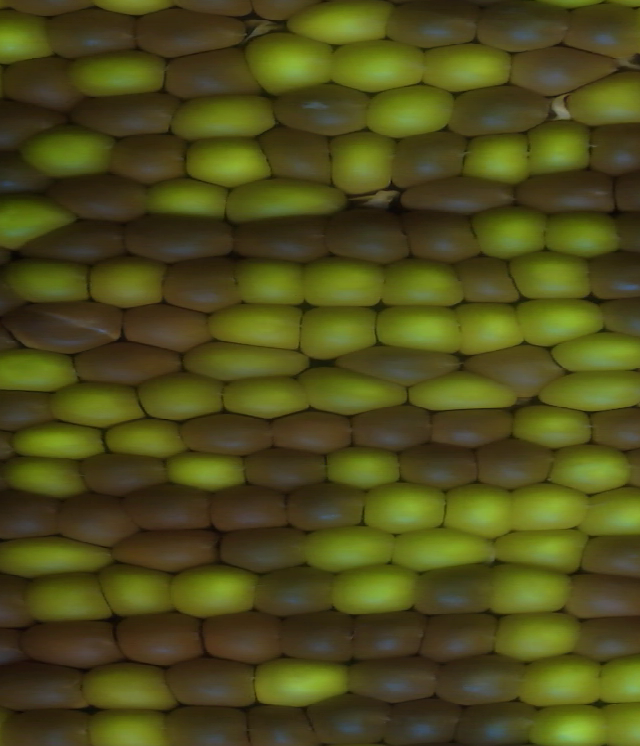fluorescent: (218, 175, 349, 224), (205, 298, 307, 354), (247, 30, 338, 92), (302, 362, 411, 413), (288, 1, 399, 50), (22, 122, 110, 183), (168, 559, 262, 616), (78, 659, 175, 714), (4, 249, 94, 308), (64, 49, 170, 99), (181, 339, 310, 380), (377, 298, 468, 356), (0, 534, 122, 577), (505, 477, 588, 540), (490, 608, 580, 666), (51, 374, 147, 428), (185, 133, 273, 191), (336, 34, 427, 90), (21, 571, 117, 624), (249, 654, 349, 704), (363, 81, 451, 137), (531, 369, 640, 414), (218, 372, 314, 423), (135, 370, 227, 423), (360, 481, 447, 537), (377, 254, 467, 308), (172, 95, 279, 140), (418, 45, 514, 95), (489, 557, 569, 617), (401, 370, 517, 411), (489, 523, 586, 572), (511, 293, 610, 341), (98, 557, 177, 617), (386, 529, 496, 572), (518, 653, 605, 707), (328, 564, 423, 613), (510, 398, 598, 450), (299, 301, 380, 357), (1, 451, 90, 501), (90, 255, 172, 309), (472, 201, 548, 259), (510, 246, 590, 301), (228, 251, 305, 308), (142, 171, 231, 220), (12, 417, 111, 461), (316, 443, 406, 491), (302, 256, 386, 307), (441, 481, 516, 538), (459, 132, 538, 186), (0, 191, 72, 250), (163, 446, 252, 493), (0, 346, 80, 398), (451, 299, 525, 355), (554, 444, 632, 497), (300, 523, 396, 566), (568, 66, 640, 123), (542, 208, 622, 259), (526, 699, 611, 746), (552, 330, 640, 375), (102, 417, 190, 460), (330, 128, 389, 192), (580, 481, 640, 540), (88, 706, 172, 746), (530, 119, 588, 174), (0, 6, 53, 61), (594, 651, 640, 706), (595, 695, 640, 746)
nonfluorescent: (1, 298, 123, 355), (128, 2, 253, 55), (109, 602, 210, 667), (163, 650, 263, 712), (331, 341, 463, 387), (465, 343, 568, 401), (159, 46, 267, 101), (118, 212, 241, 260), (446, 83, 554, 137), (510, 43, 622, 95), (48, 167, 151, 222), (68, 335, 181, 385), (109, 525, 222, 575), (270, 78, 372, 133), (323, 203, 411, 265), (57, 488, 138, 555), (228, 214, 341, 262), (48, 6, 143, 62), (118, 298, 212, 354), (385, 128, 472, 188), (18, 218, 131, 264), (175, 409, 283, 457), (399, 171, 521, 213), (249, 564, 343, 618), (199, 607, 291, 662), (474, 1, 575, 51), (511, 166, 616, 214), (279, 477, 369, 533), (265, 120, 339, 188), (27, 616, 125, 667), (0, 661, 93, 714), (346, 402, 436, 456), (436, 653, 526, 707), (411, 562, 499, 617), (214, 523, 307, 575), (398, 206, 483, 262), (342, 654, 437, 704), (67, 92, 180, 134), (279, 606, 359, 662), (559, 4, 640, 59), (305, 691, 386, 746), (160, 257, 238, 314), (396, 439, 479, 492), (386, 3, 481, 49), (107, 130, 185, 186), (474, 435, 552, 491), (77, 450, 168, 497), (244, 444, 333, 492), (565, 566, 640, 622), (133, 481, 212, 534), (207, 483, 290, 533), (267, 412, 359, 456), (0, 54, 75, 107), (457, 698, 536, 746), (383, 698, 461, 746), (414, 613, 498, 657), (242, 699, 321, 745), (425, 407, 511, 448), (347, 611, 420, 659), (0, 488, 65, 540), (458, 253, 518, 309), (575, 613, 640, 664), (578, 530, 640, 581), (588, 120, 640, 176), (0, 97, 58, 146), (0, 144, 51, 198), (589, 249, 640, 299), (0, 386, 54, 433), (589, 404, 640, 451), (0, 566, 35, 633), (596, 293, 640, 341), (0, 623, 31, 674)
